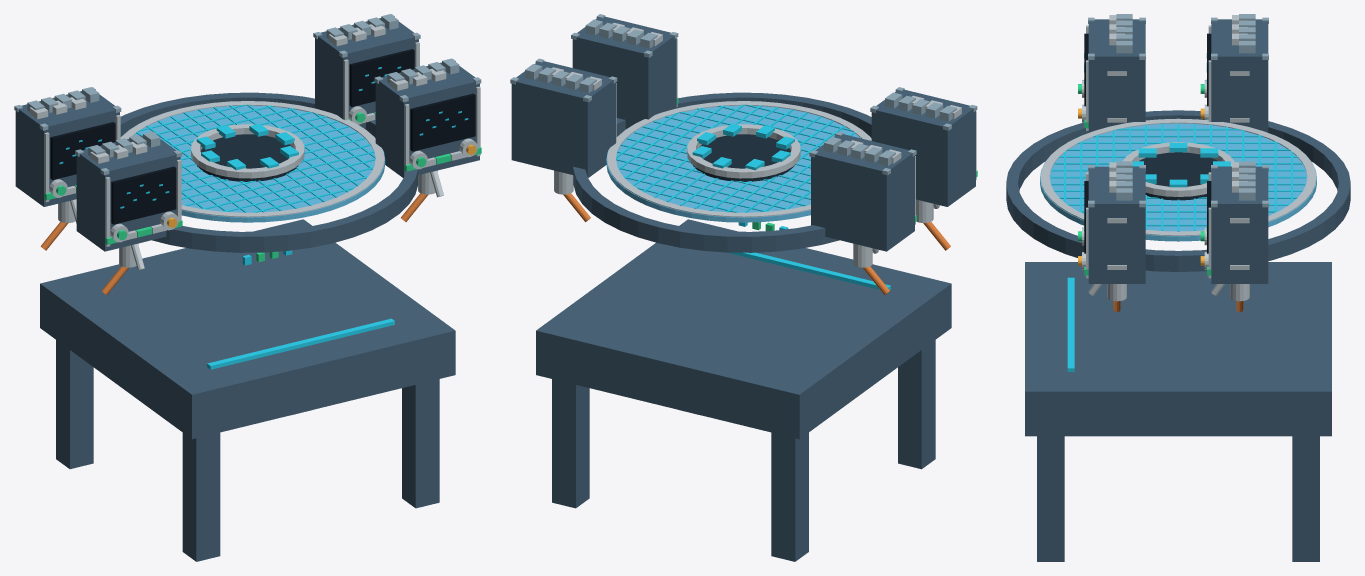
The model's file is 09_L78_OpticalWaferAlignmentStage.fbx.
The picture shows the model from 3 angles, left to right: view 1: azimuth 30°, elevation 25°; view 2: azimuth 150°, elevation 25°; view 3: azimuth 270°, elevation 25°; orthographic projection.
Parts seen in each view (by area): view 1: OpticalWaferAlignmentStage, OpticalWaferAlignmentStage_Part_0195, OpticalWaferAlignmentStage_Part_0196; view 2: OpticalWaferAlignmentStage, OpticalWaferAlignmentStage_Part_0195, OpticalWaferAlignmentStage_Part_0196; view 3: OpticalWaferAlignmentStage, OpticalWaferAlignmentStage_Part_0195, OpticalWaferAlignmentStage_Part_0196.
Part boxes in pixels (x1,y1,x2,y2): OpticalWaferAlignmentStage: (14, 14, 481, 561); OpticalWaferAlignmentStage_Part_0195: (197, 134, 298, 181); OpticalWaferAlignmentStage_Part_0196: (191, 124, 304, 178); OpticalWaferAlignmentStage: (510, 14, 977, 561); OpticalWaferAlignmentStage_Part_0195: (693, 134, 794, 181); OpticalWaferAlignmentStage_Part_0196: (687, 124, 800, 178); OpticalWaferAlignmentStage: (1006, 14, 1350, 561); OpticalWaferAlignmentStage_Part_0195: (1139, 152, 1217, 200); OpticalWaferAlignmentStage_Part_0196: (1123, 142, 1234, 196).
Size of the model in its own units: 222 by 222 by 174.
